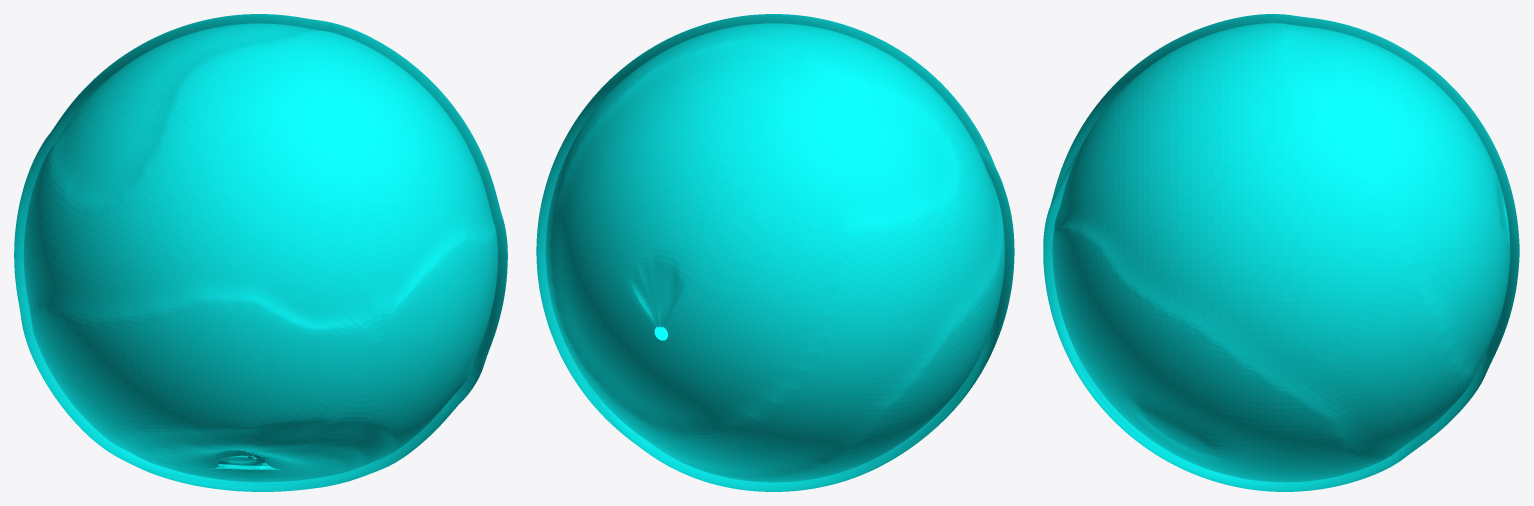
3 renders of one model, left to right at view 1: azimuth 30°, elevation 25°; view 2: azimuth 150°, elevation 25°; view 3: azimuth 270°, elevation 25°, orthographic. The views are drawn at different scales.
Visible parts, largest first — view 1: Renderer Node; view 2: Renderer Node; view 3: Renderer Node.
Boxes of the visible parts, box(x1,y1,x2,y2) form: Renderer Node: box(14, 14, 507, 491); Renderer Node: box(536, 14, 1014, 491); Renderer Node: box(1043, 14, 1519, 491).
Bounding box in the file's own units: 1.98e+15 × 1.98e+15 × 1.98e+15.
